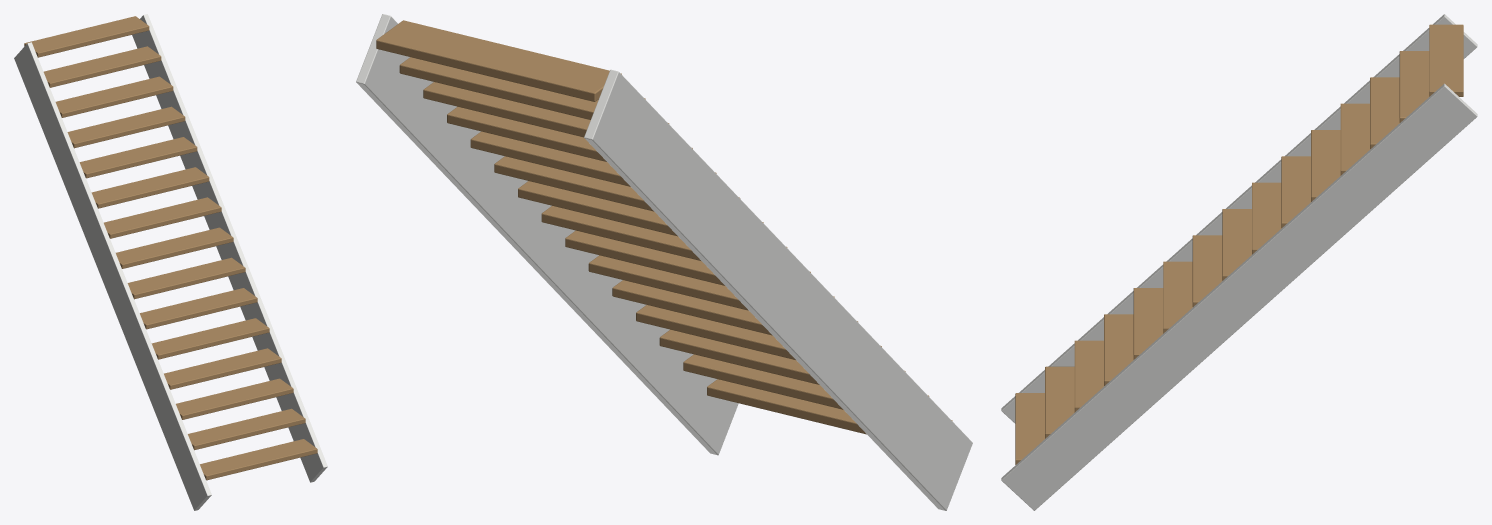
The model's file is treppe.glb.
The picture shows the model from 3 angles, left to right: view 1: azimuth 30°, elevation 25°; view 2: azimuth 150°, elevation 25°; view 3: azimuth 270°, elevation 25°; orthographic projection. The views are drawn at different scales.
Parts seen in each view (by area): view 1: Wange-1, Wange1, Stufe14, Stufe13, Stufe3, Stufe7, Stufe9, Stufe2, Stufe8, Stufe10, Stufe4, Stufe12 (+5 smaller); view 2: Wange-1, Wange1, Stufe14, Stufe13, Stufe12, Stufe1, Stufe5, Stufe10, Stufe2, Stufe7, Stufe9, Stufe6 (+5 smaller); view 3: Wange1, Wange-1, Stufe14, Stufe6, Stufe13, Stufe4, Stufe11, Stufe2, Stufe1, Stufe5, Stufe9, Stufe8 (+5 smaller).
Part boxes in pixels (x1,y1,x2,y2): Wange-1: [14, 42, 211, 510]; Wange1: [132, 14, 327, 482]; Stufe14: [24, 16, 149, 57]; Stufe13: [43, 46, 161, 87]; Stufe3: [164, 348, 281, 389]; Stufe7: [116, 227, 233, 268]; Stufe9: [91, 167, 209, 208]; Stufe2: [176, 378, 293, 419]; Stufe8: [104, 197, 221, 238]; Stufe10: [79, 137, 197, 178]; Stufe4: [151, 318, 269, 359]; Stufe12: [55, 76, 173, 117]; Wange-1: [584, 69, 972, 510]; Wange1: [356, 14, 738, 455]; Stufe14: [376, 20, 621, 101]; Stufe13: [399, 57, 645, 119]; Stufe12: [423, 82, 669, 137]; Stufe1: [683, 354, 929, 409]; Stufe5: [588, 255, 834, 310]; Stufe10: [470, 131, 716, 186]; Stufe2: [659, 329, 905, 384]; Stufe7: [541, 205, 787, 260]; Stufe9: [494, 156, 740, 211]; Stufe6: [565, 230, 810, 285]; Wange1: [1001, 83, 1477, 510]; Wange-1: [1001, 14, 1477, 423]; Stufe14: [1429, 24, 1463, 96]; Stufe6: [1192, 235, 1222, 306]; Stufe13: [1399, 51, 1429, 122]; Stufe4: [1133, 288, 1163, 359]; Stufe11: [1340, 103, 1370, 175]; Stufe2: [1074, 340, 1103, 412]; Stufe1: [1045, 366, 1074, 438]; Stufe5: [1163, 261, 1192, 333]; Stufe9: [1281, 156, 1310, 227]; Stufe8: [1252, 182, 1281, 254].
Bounding box in the file's own units: 1.08 × 2.96 × 3.01.
